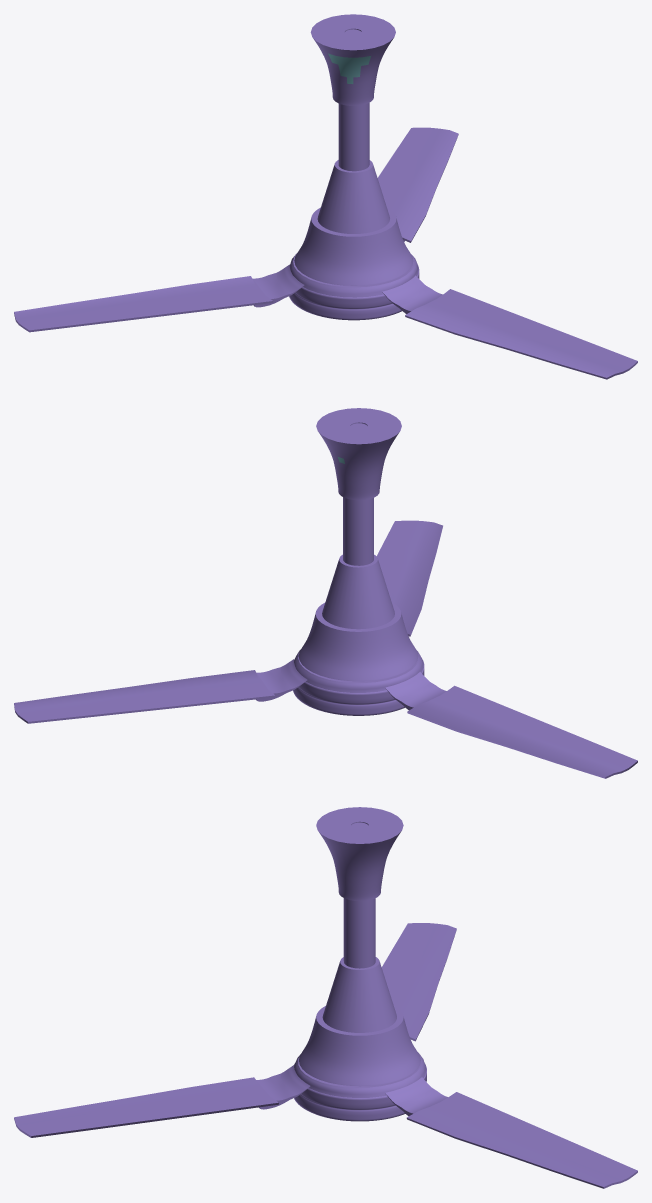
Rendered from ceiling_fan.glb.
The picture shows the model from 3 angles, top to bottom: view 1: azimuth 30°, elevation 25°; view 2: azimuth 150°, elevation 25°; view 3: azimuth 270°, elevation 25°; orthographic projection. The views are drawn at different scales.
Parts seen in each view (by area): view 1: Cylinder002, Line003_Material #3_0, Line005_Material #3_0, Cylinder001, Line005_Material #7_0; view 2: Cylinder002, Line003_Material #3_0, Line005_Material #3_0, Cylinder001; view 3: Cylinder002, Line003_Material #3_0, Line005_Material #3_0, Cylinder001.
Part boxes in pixels (x1,y1,x2,y2): Cylinder002: [14, 127, 637, 379]; Line003_Material #3_0: [294, 160, 413, 285]; Line005_Material #3_0: [310, 14, 395, 105]; Cylinder001: [338, 29, 369, 171]; Line005_Material #7_0: [328, 53, 370, 83]; Cylinder002: [14, 520, 637, 778]; Line003_Material #3_0: [298, 554, 418, 681]; Line005_Material #3_0: [316, 408, 401, 500]; Cylinder001: [343, 423, 373, 565]; Cylinder002: [14, 923, 637, 1188]; Line003_Material #3_0: [299, 957, 420, 1086]; Line005_Material #3_0: [316, 807, 403, 901]; Cylinder001: [343, 822, 375, 968].
Size of the model in its own units: 2.4 by 1.2 by 2.41.
